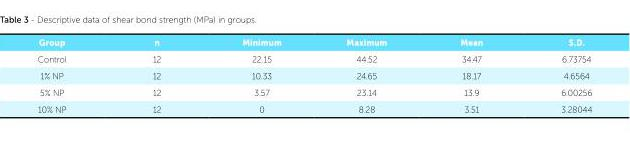table: (36, 36, 591, 113)
table column: (200, 36, 313, 113), (313, 36, 422, 113), (422, 36, 521, 113), (108, 36, 200, 113), (36, 36, 108, 113), (521, 36, 591, 113)
table row: (36, 66, 591, 83), (36, 83, 591, 100), (36, 50, 591, 66), (36, 36, 591, 50), (36, 100, 591, 113)
